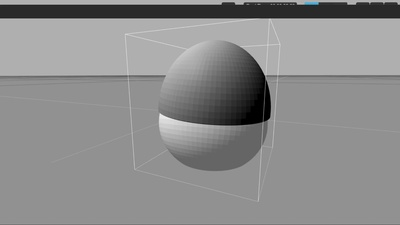mira_robot: (159, 40, 271, 171)
